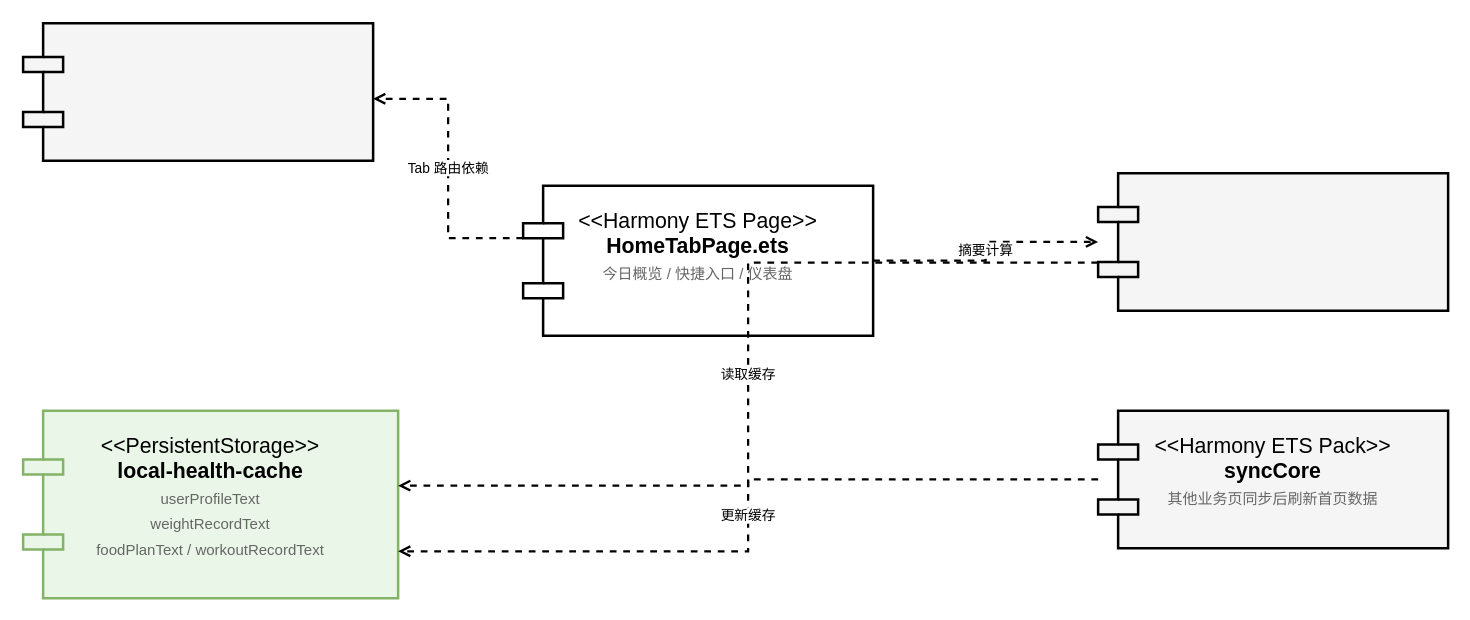
This 1470x620 diagram has some shape labels left out. Here are the shapes that lost their labels. From the top down, the centre of each, then its label:
the point at 197,91: <<Harmony ETS Pack>> tabRouter Index.ets / MainBottomNavigation
the point at 1272,241: <<Harmony ETS Pack>> homeDashboard HomeDashboardHelper
